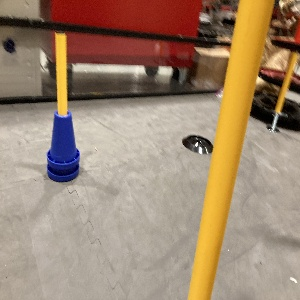Blue_2: (43, 109, 81, 182)
